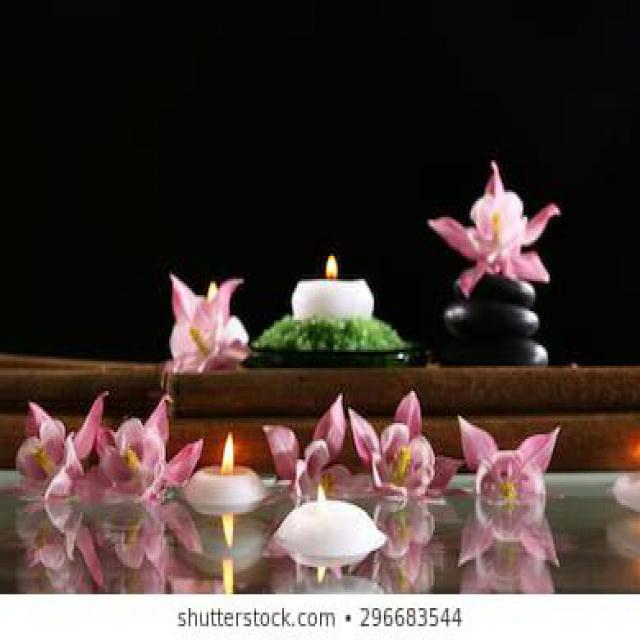Fire: (222, 430, 235, 478), (221, 514, 234, 549), (222, 560, 234, 592), (325, 254, 338, 279), (316, 484, 328, 506)
